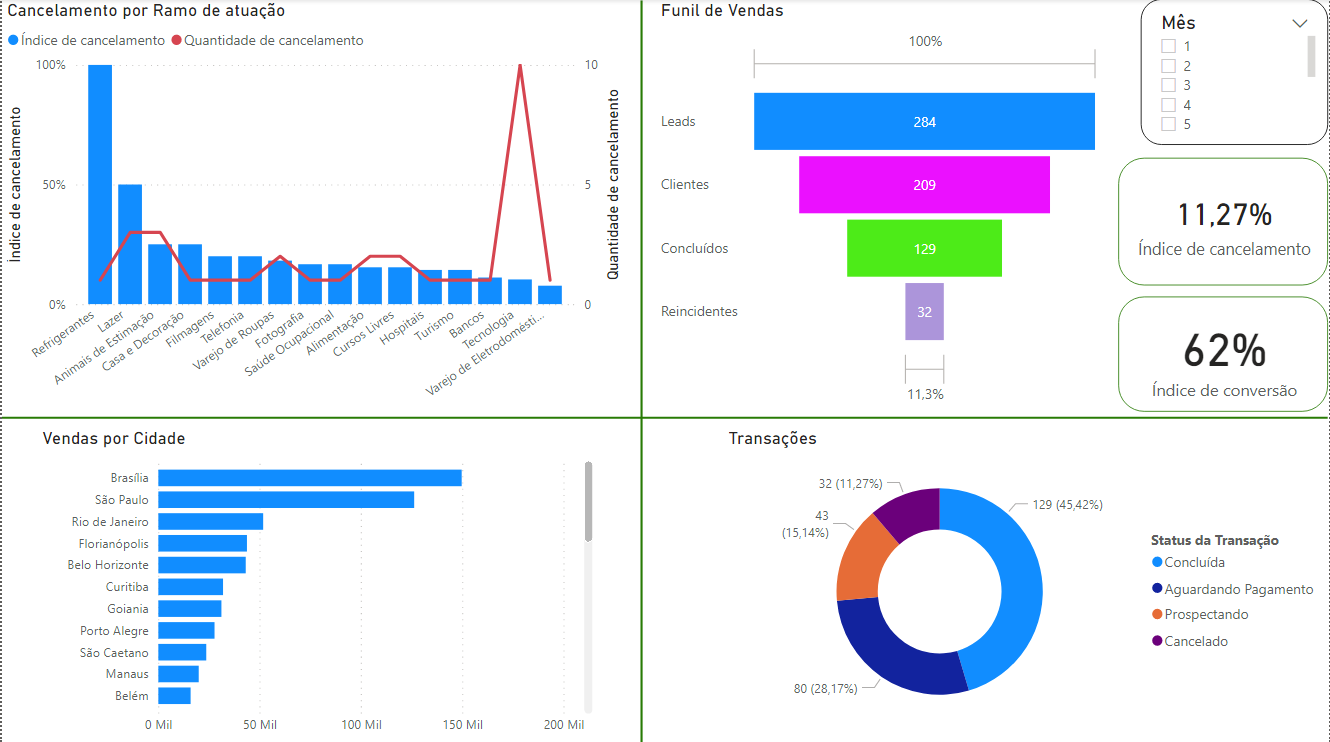

Layout of this report page (visuals, bound fields, positions):
{"tool":"powerbi","page":{"name":"Vendas","canvas":[1280,720],"ordinal":2},"visuals":[{"type":"lineStackedColumnComboChart","title":"Cancelamento por Ramo de atuação","fields":{"Category":["BaseInformacao.Ramo de atuação"],"Y2":["BaseTransacao.Quantidade de cancelamento"],"Y":["BaseTransacao.Índice de cancelamento"]},"box":[0,0,601.8,399.2],"z":0},{"type":"funnel","title":"Funil de Vendas","fields":{"Y":["BaseTransacao.Topo do funil","BaseTransacao.Clientes","BaseTransacao.Concluídos","BaseTransacao.Reincidentes"]},"box":[630.8,0,434.2,399.2],"z":1000},{"type":"card","fields":{"Values":["BaseTransacao.Índice de cancelamento"]},"box":[1077.3,153.7,202.7,123.2],"z":2000},{"type":"donutChart","title":"Transações","fields":{"Y":["BaseTransacao.Transações"],"Category":["BaseTransacao.Status da Transação"]},"box":[695.9,413.7,583.7,296.7],"z":3000},{"type":"shape","box":[0,394.4,1279.6,19.3],"z":4000},{"type":"slicer","fields":{"Values":["BaseCalendario.Mês"]},"box":[1098.7,0,180.9,141.1],"z":5000},{"type":"card","fields":{"Values":["BaseTransacao.Índice de conversão"]},"box":[1077.3,287.5,202.7,111.3],"z":6000},{"type":"clusteredBarChart","fields":{"Y":["BaseTransacao.Vendas"],"Category":["BaseInformacao.Cidade"]},"box":[34.3,413.3,540.6,306.1],"z":7000},{"type":"shape","box":[610.3,1.2,13.3,718.8],"z":8000}]}

Visuals, with their boxes in screenshot pixels (x1, y1, x2, y2), scaled from the page's 1280x720 canvas onto the 1330x742 screenshot:
"Cancelamento por Ramo de atuação" lineStackedColumnComboChart: box=[0, 0, 625, 411]
"Funil de Vendas" funnel: box=[655, 0, 1107, 411]
card - BaseTransacao.Índice de cancelamento: box=[1119, 158, 1329, 285]
"Transações" donutChart: box=[723, 426, 1329, 732]
shape: box=[0, 406, 1329, 426]
slicer - BaseCalendario.Mês: box=[1142, 0, 1329, 145]
card - BaseTransacao.Índice de conversão: box=[1119, 296, 1329, 411]
clusteredBarChart - BaseTransacao.Vendas x BaseInformacao.Cidade: box=[36, 426, 597, 741]
shape: box=[634, 1, 648, 741]
